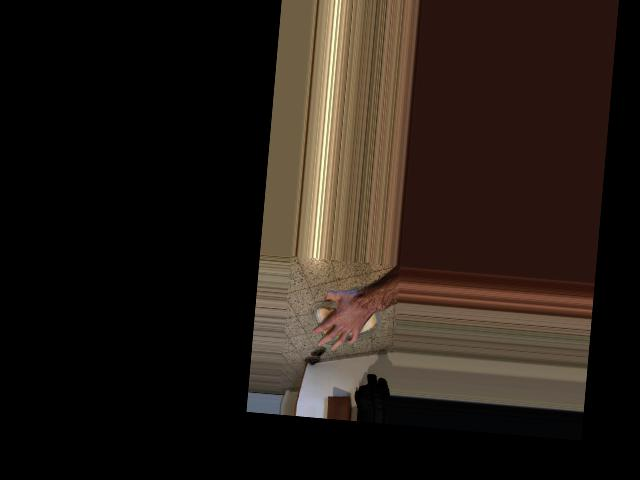cheese: (310, 282, 380, 352)
